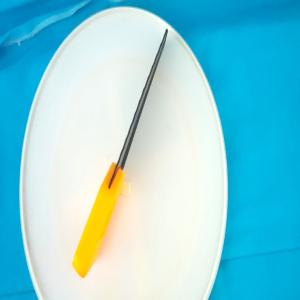serrote: (72, 28, 168, 279)
